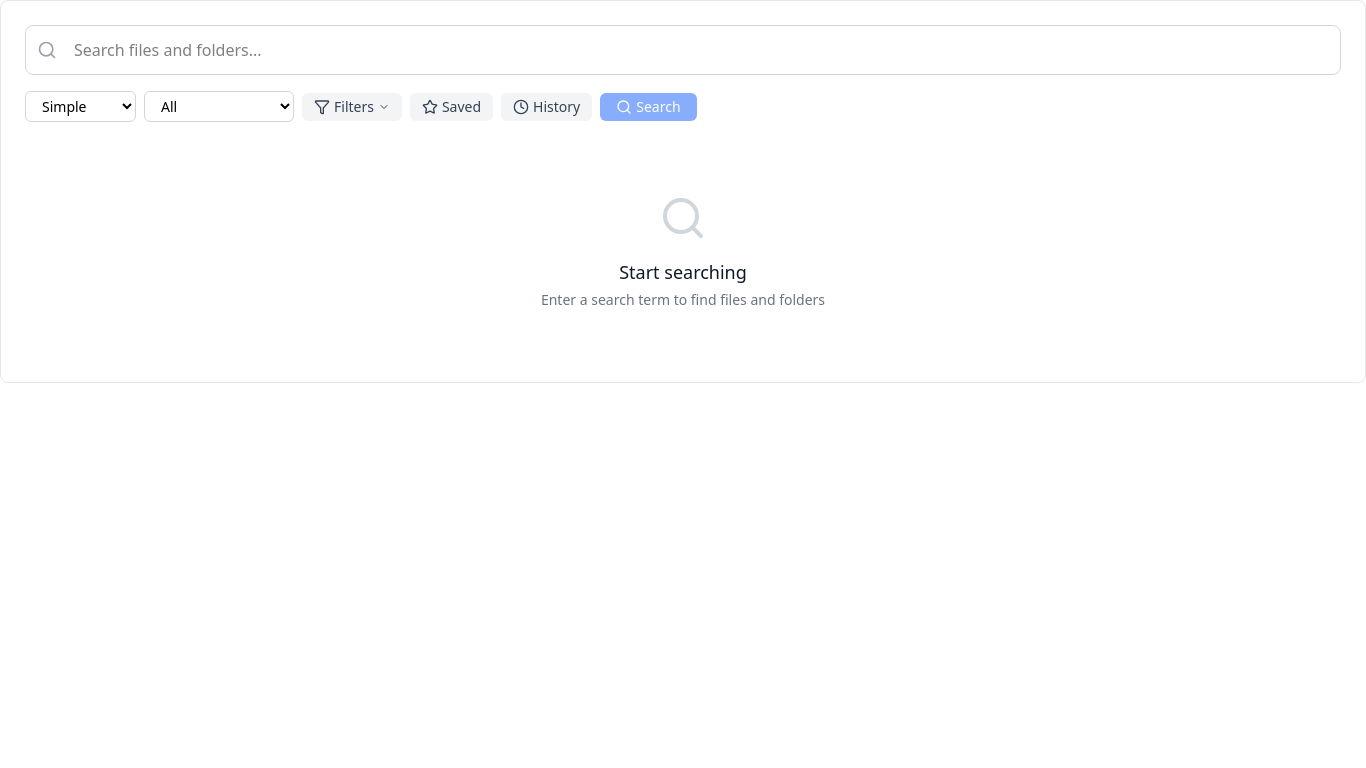
Test case: SearchInterface › Search Controls › toggles filters panel
Click the button "Filters": x=352, y=106 [302,92,402,120]
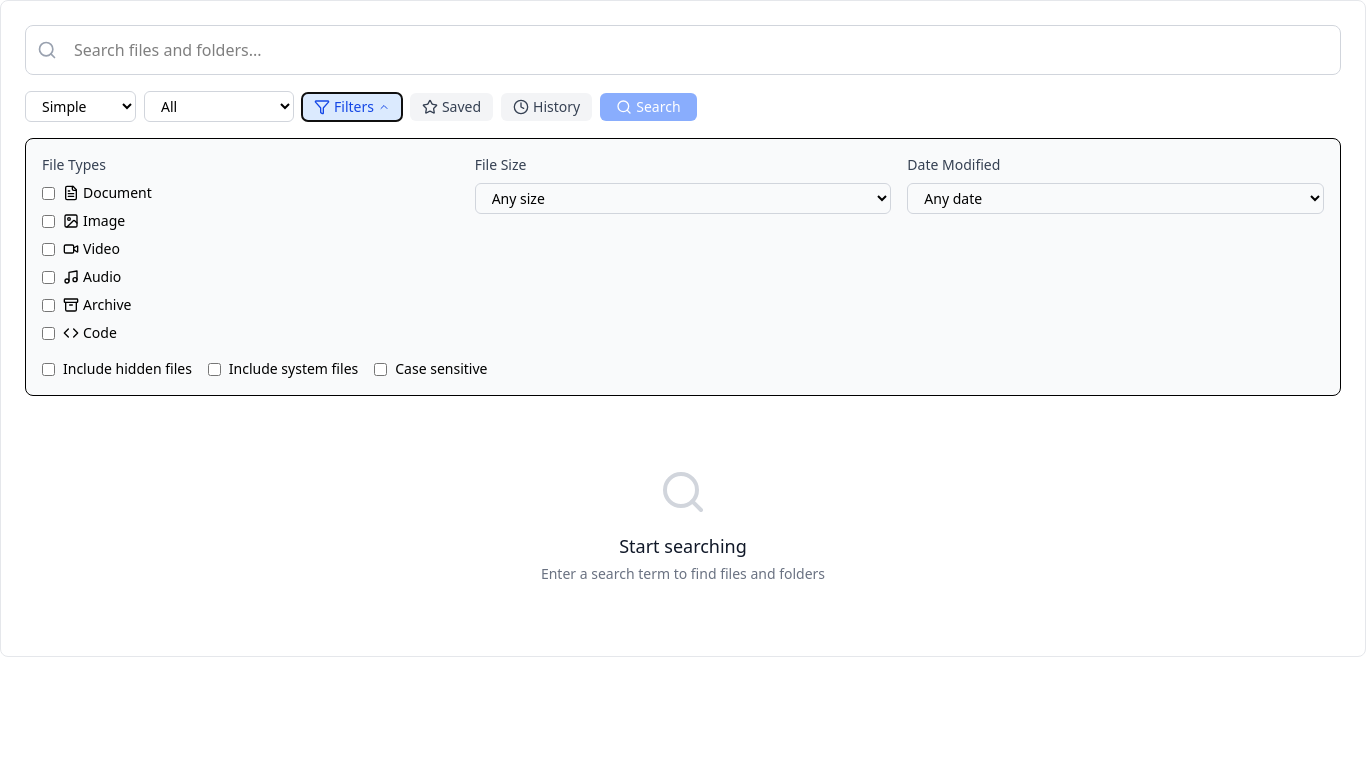
Expected: the text "File Types" is shown, [42,155,106,174]
